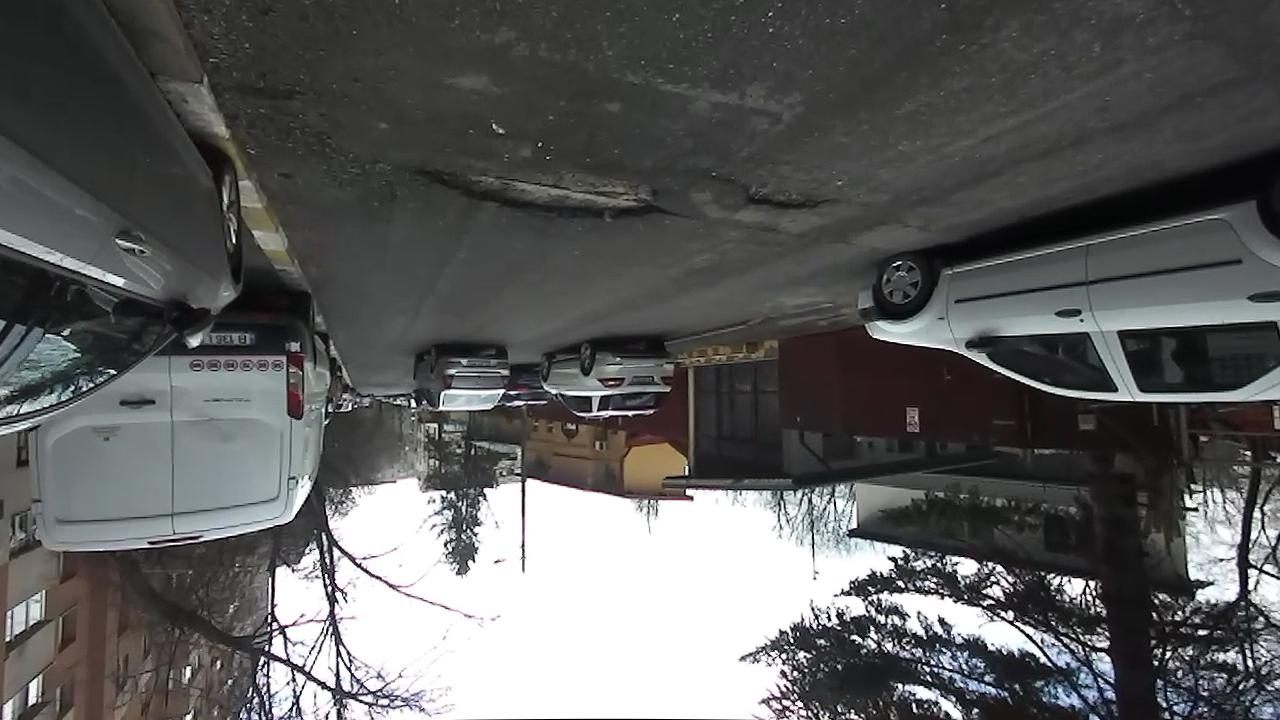pothole: (405, 155, 690, 223), (709, 172, 842, 216)
